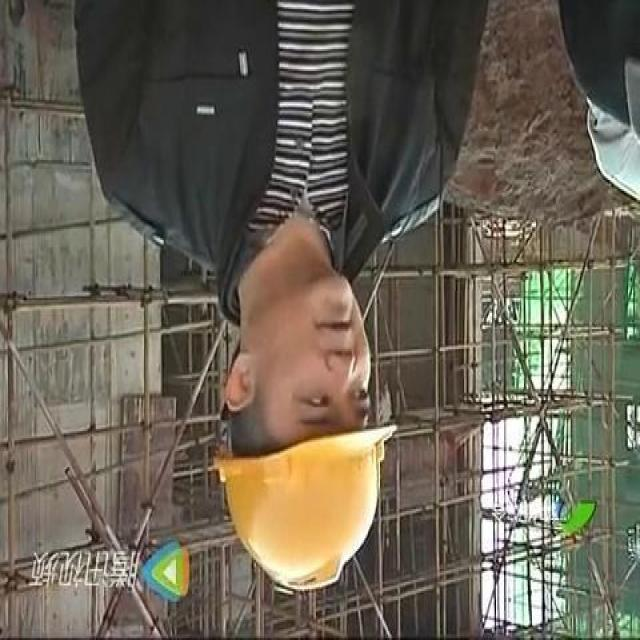helmet: (209, 426, 415, 604)
